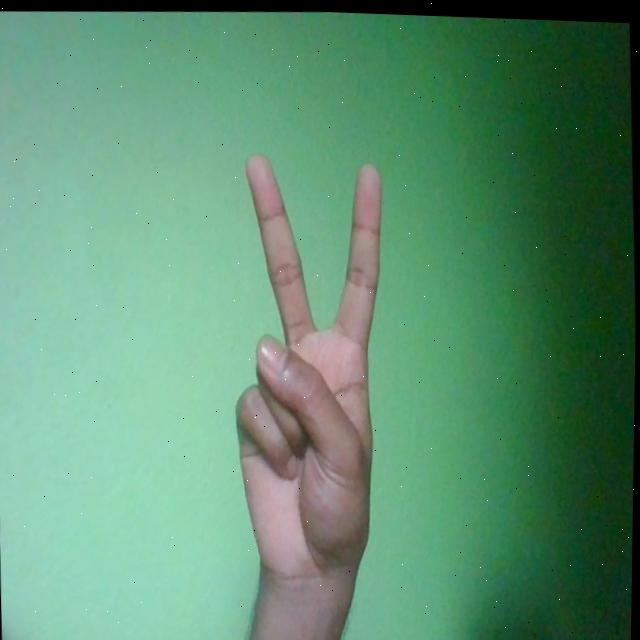Peace: (223, 144, 395, 594)
